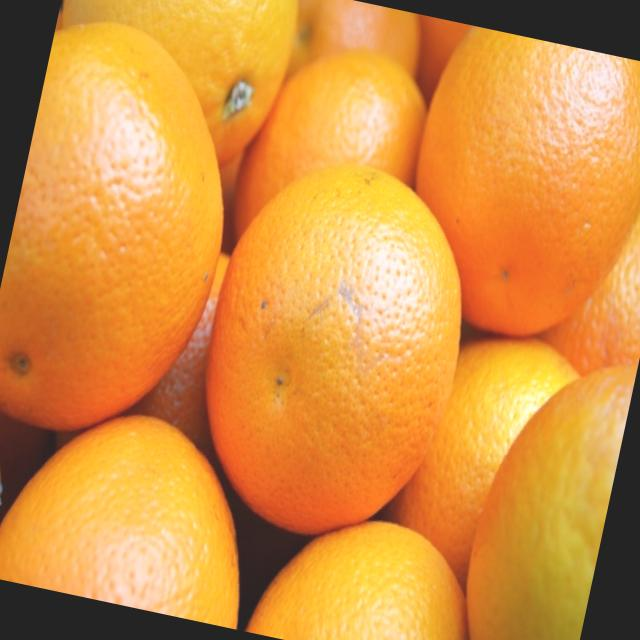orange: (162, 137, 506, 556), (0, 13, 266, 450), (196, 18, 479, 356), (389, 21, 640, 361), (0, 374, 294, 631)
